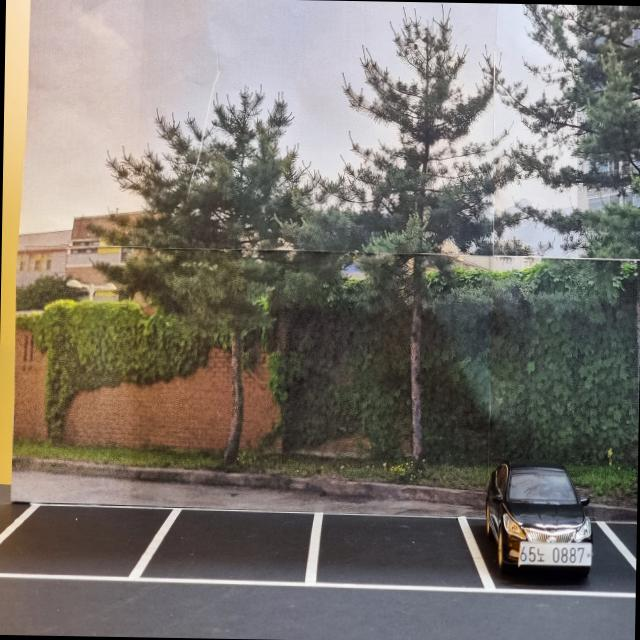car: (482, 460, 594, 585)
free: (304, 515, 481, 604), (172, 499, 320, 598), (6, 499, 167, 586)
